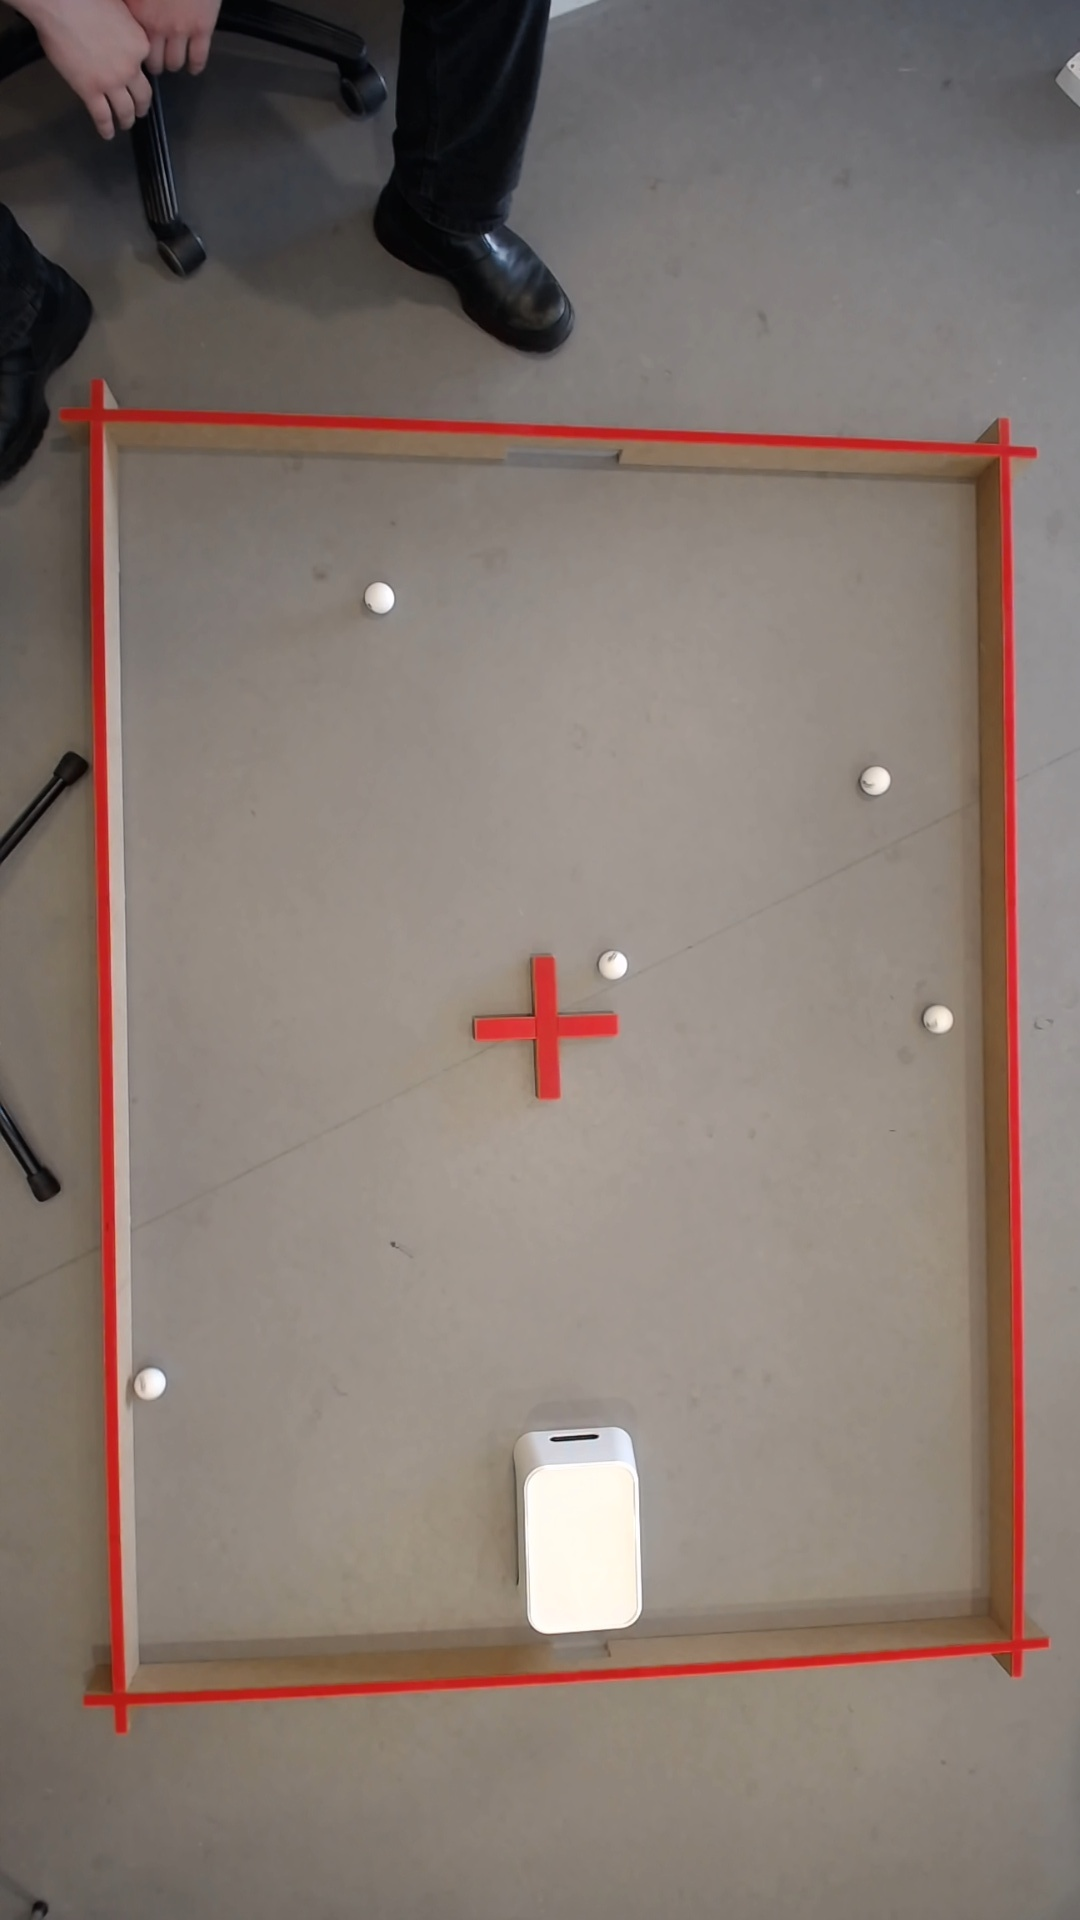balls: (597, 948, 633, 982), (862, 764, 894, 795), (142, 1369, 165, 1398), (372, 583, 394, 612)
car: (924, 1002, 956, 1034)
